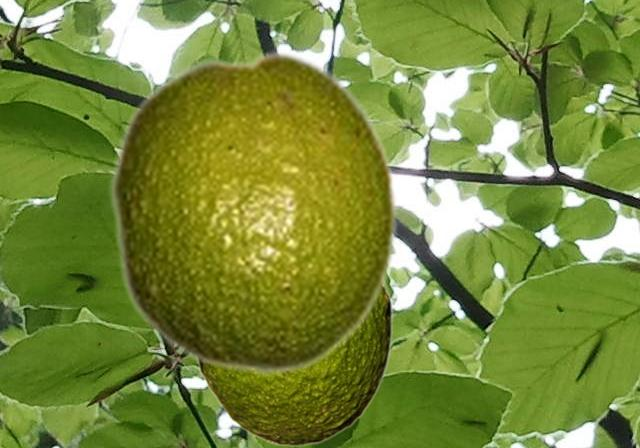avocado: (108, 48, 399, 377), (196, 285, 392, 446)
